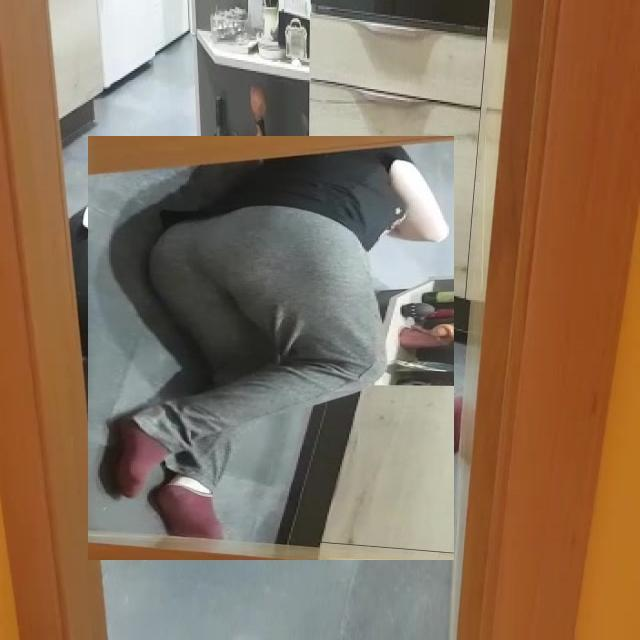Fall: (135, 143, 462, 580)
